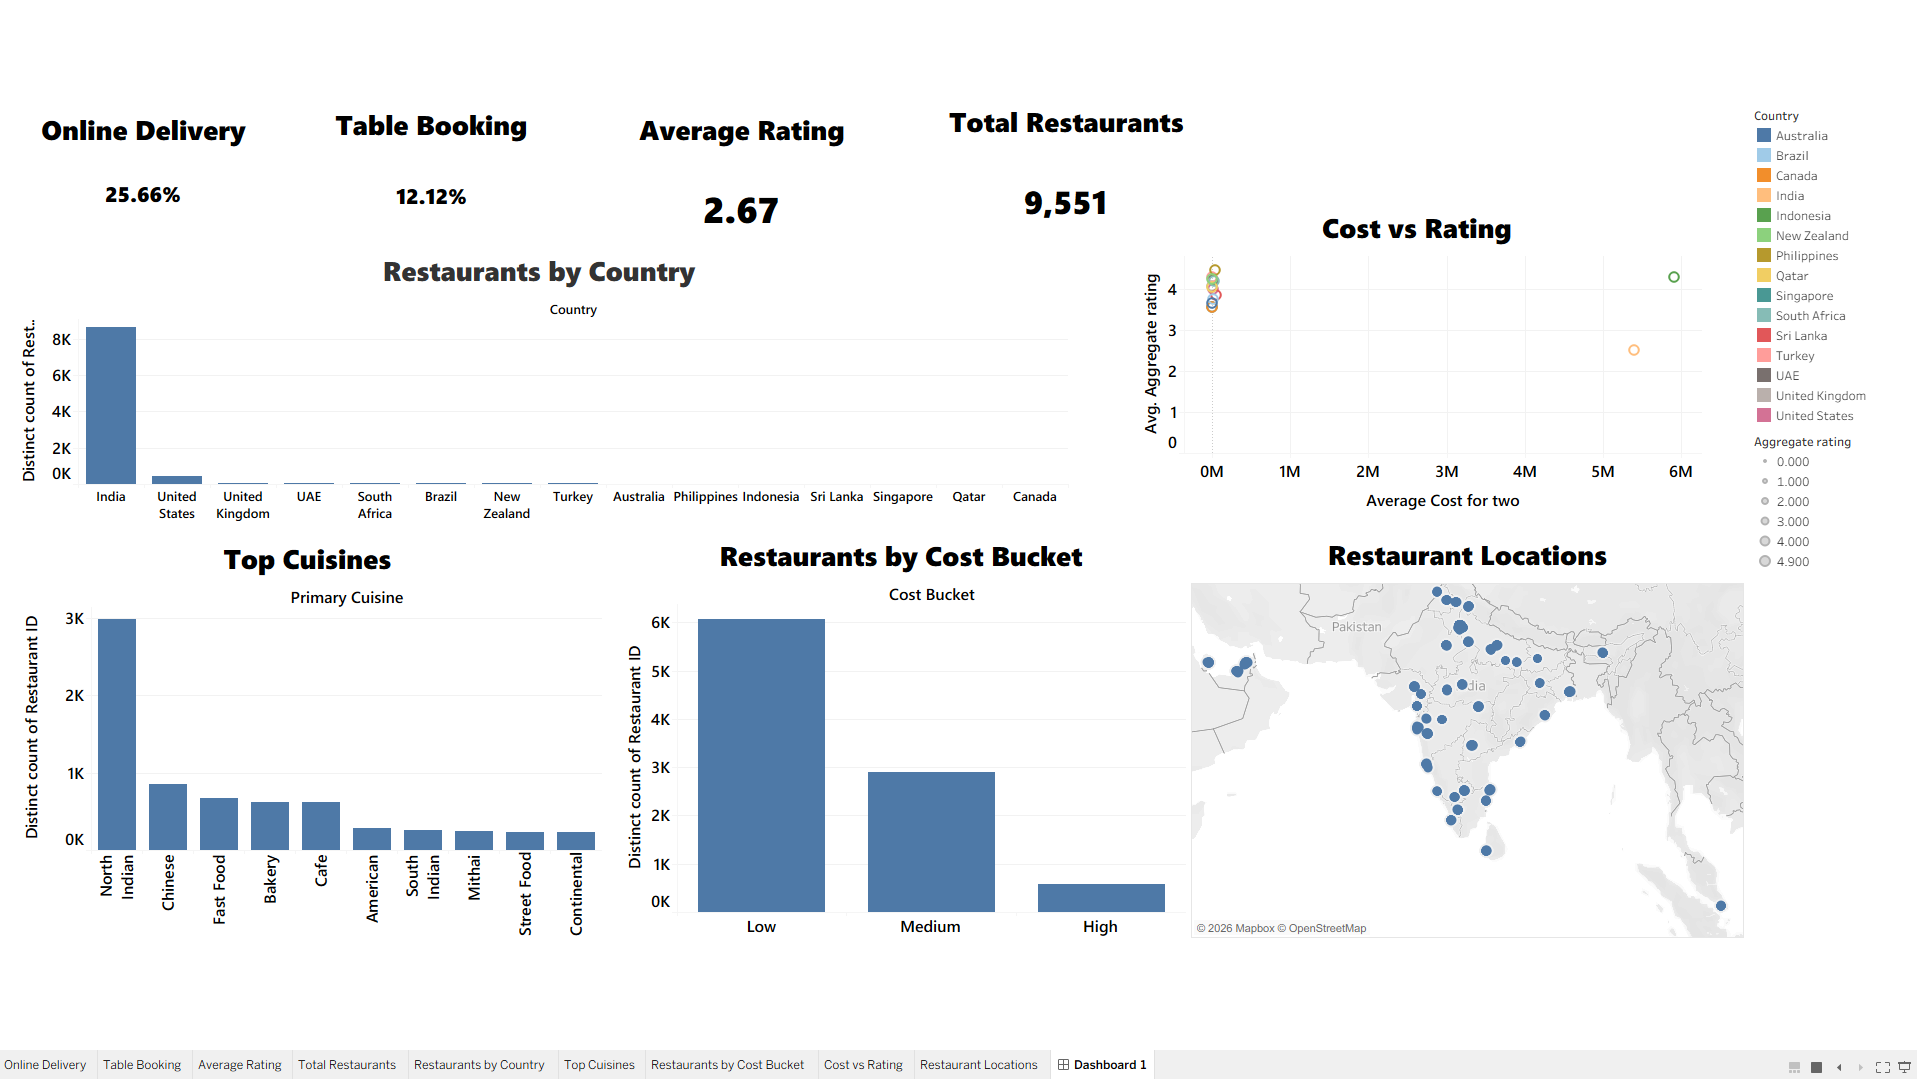

What the dashboard file says about the page in this screenshot:
{"tool":"tableau","page":{"name":"Dashboard 1","canvas":[1000,1000],"units":"permille","ordinal":0},"visuals":[{"type":"worksheet","title":"Total Restaurnets","mark":"Automatic","box":[490.1,4.7,132.8,179.1]},{"type":"worksheet","title":"Table Booking","mark":"Automatic","box":[152.1,8.1,147.4,167.4]},{"type":"legend","title":"Cost vs Rating","param":"[federated.1qa82nz0crswun174ntcc1q0mqij].[none:Country:nk]","box":[912.5,9.3,83.3,332.6]},{"type":"worksheet","title":"Online Delivery","mark":"Automatic","box":[5.7,14,140.1,162.8]},{"type":"worksheet","title":"Average Rating","mark":"Text","box":[288,14,199,182.6]},{"type":"worksheet","title":"Cost vs Rating","mark":"Automatic","rows":["Aggregate rating"],"cols":["Average Cost for two"],"box":[590.6,127.9,296.9,363.9]},{"type":"worksheet","title":"Restaurants by Country","mark":"Automatic","rows":["Restaurant ID"],"cols":["Country"],"box":[6.2,177.9,559.4,322.1]},{"type":"legend","title":"Restaurant Locations","param":"[federated.1qa82nz0crswun174ntcc1q0mqij].[sum:Aggregate rating:qk]","box":[912.5,341.9,83.3,169.8]},{"type":"worksheet","title":"Restaurant Locations","mark":"Automatic","rows":["Latitude"],"cols":["Longitude"],"box":[621.4,508.1,288,472.1]},{"type":"worksheet","title":"Restaurants by Cost Bucket","mark":"Automatic","rows":["Restaurant ID"],"cols":["Calculation_0648211079933953"],"box":[321.9,509.3,296.9,470.9]},{"type":"worksheet","title":"Top Cuisines","mark":"Automatic","rows":["Restaurant ID"],"cols":["Primary Cuisine"],"box":[7.8,512.8,306.8,467.4]}]}

Visuals, with their boxes on the dashboard's canvas, which has no fixed pixel size, in thousandths of its width and height (x1, y1, x2, y2). These are canvas units, not pixel positions in the 1917x1079 screenshot, which may show the page scaled, cropped or inside an application window:
"Total Restaurnets" worksheet: 490/5/623/184
"Table Booking" worksheet: 152/8/300/176
"Cost vs Rating" legend: 912/9/996/342
"Online Delivery" worksheet: 6/14/146/177
"Average Rating" worksheet (Text marks): 288/14/487/197
"Cost vs Rating" worksheet: 591/128/888/492
"Restaurants by Country" worksheet: 6/178/566/500
"Restaurant Locations" legend: 912/342/996/512
"Restaurant Locations" worksheet: 621/508/909/980
"Restaurants by Cost Bucket" worksheet: 322/509/619/980
"Top Cuisines" worksheet: 8/513/315/980
